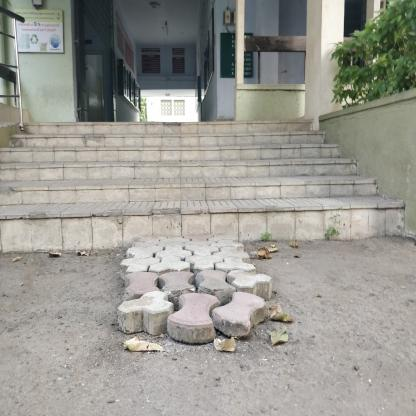stairs: (57, 124, 293, 254)
